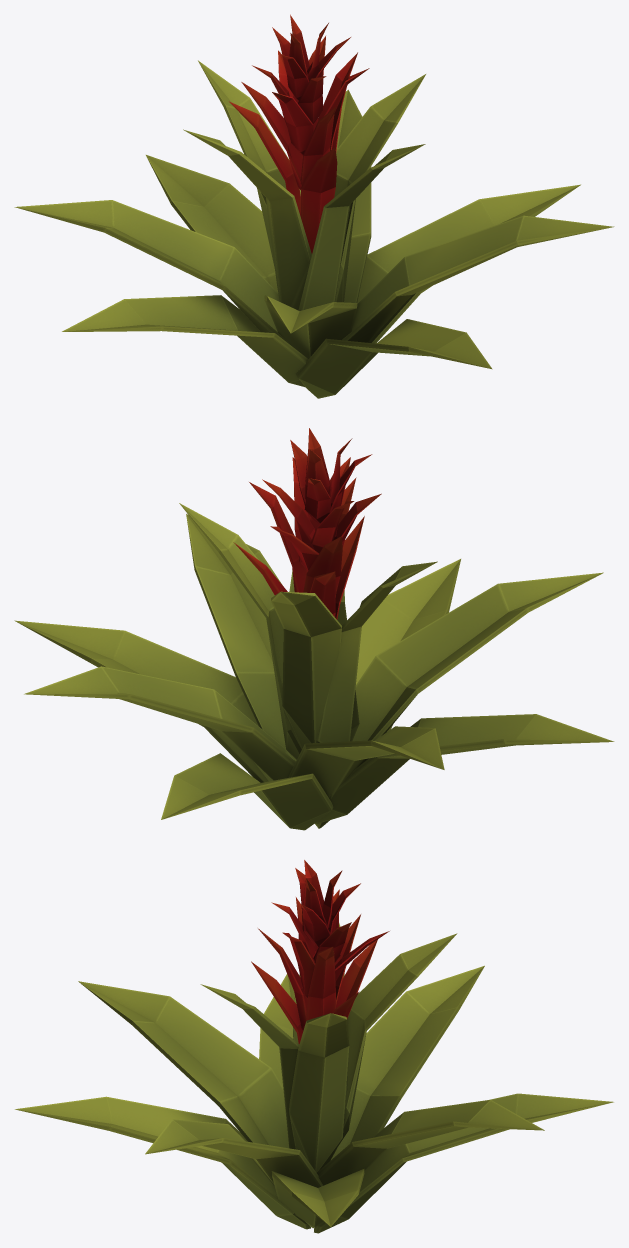
The model's file is Bromeliads.gltf.
The picture shows the model from 3 angles, top to bottom: view 1: azimuth 30°, elevation 25°; view 2: azimuth 150°, elevation 25°; view 3: azimuth 270°, elevation 25°; orthographic projection. The views are drawn at different scales.
Visible parts, largest first — view 1: node-0; view 2: node-0; view 3: node-0.
Boxes of the visible parts, left/top/right/bottom form: node-0: left=14, top=14, right=614, bottom=398; node-0: left=14, top=428, right=614, bottom=830; node-0: left=15, top=860, right=613, bottom=1233.
Size of the model in its own units: 6.83 by 4.5 by 6.86.
1 material, 1 textured.
